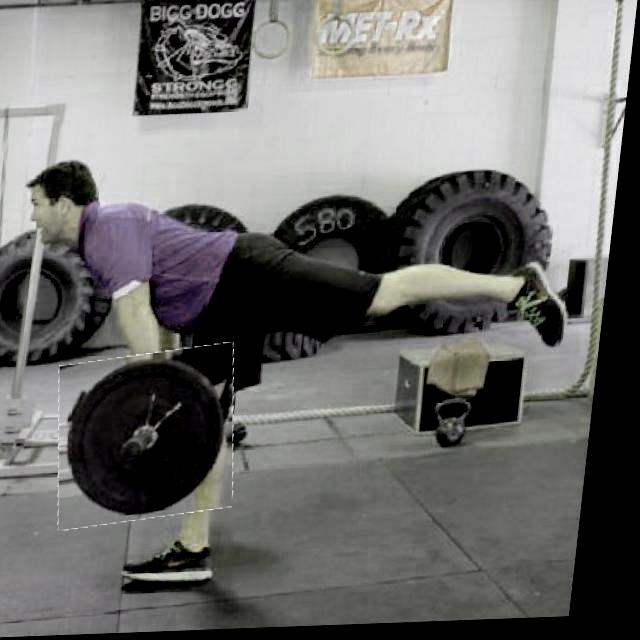barbell: (59, 349, 255, 529)
